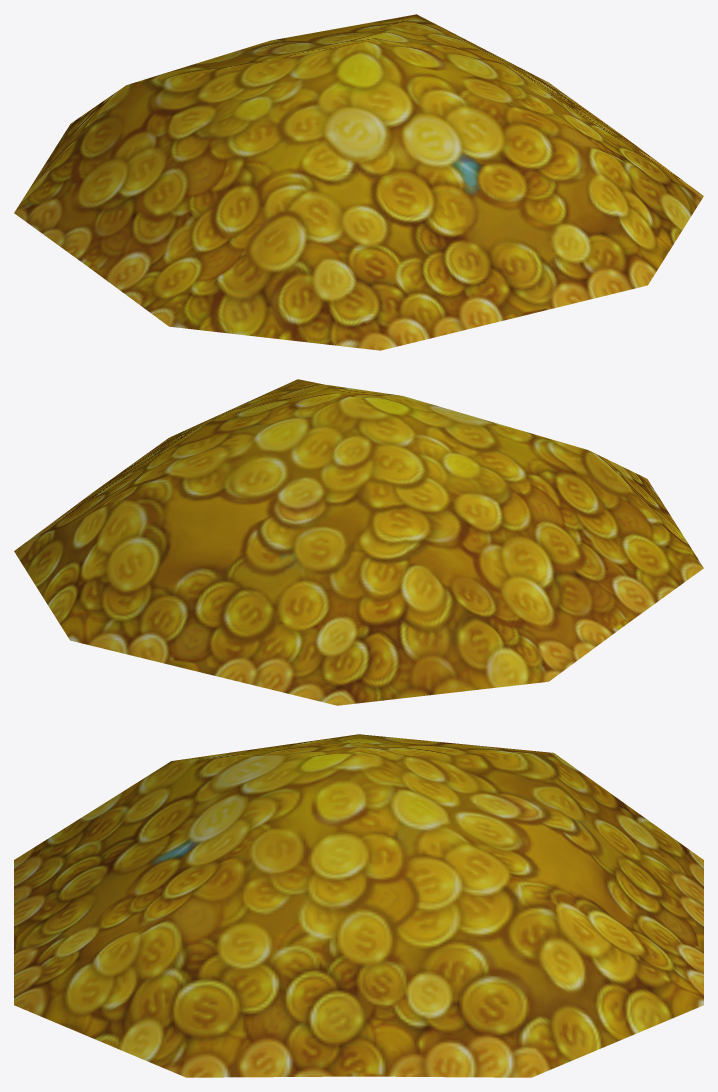
The model's file is Dxlm_jb.FBX.
The picture shows the model from 3 angles, top to bottom: view 1: azimuth 30°, elevation 25°; view 2: azimuth 150°, elevation 25°; view 3: azimuth 270°, elevation 25°; orthographic projection. The views are drawn at different scales.
Visible parts, largest first — view 1: Dxlm_jb; view 2: Dxlm_jb; view 3: Dxlm_jb.
Part boxes in pixels (<box>): Dxlm_jb: <box>14,14,703,350</box>; Dxlm_jb: <box>14,379,703,705</box>; Dxlm_jb: <box>14,734,703,1077</box>.
Size of the model in its own units: 86.73 by 87.07 by 24.81.
1 material, 1 textured.
